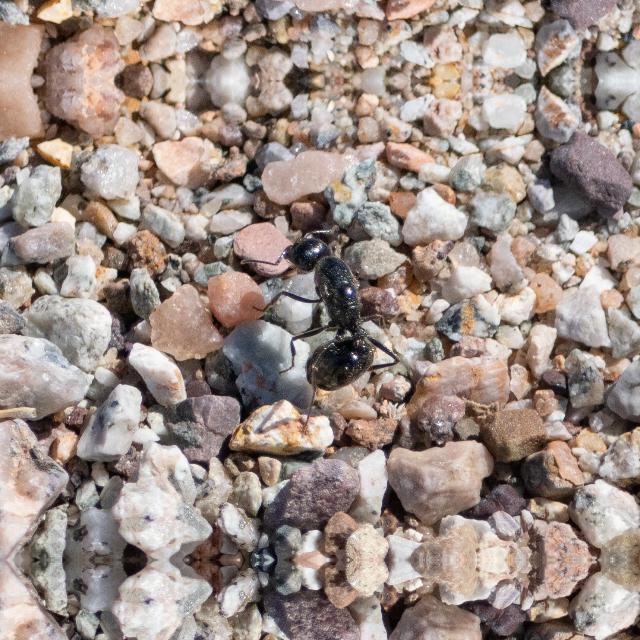Messor: (267, 213, 391, 393)
